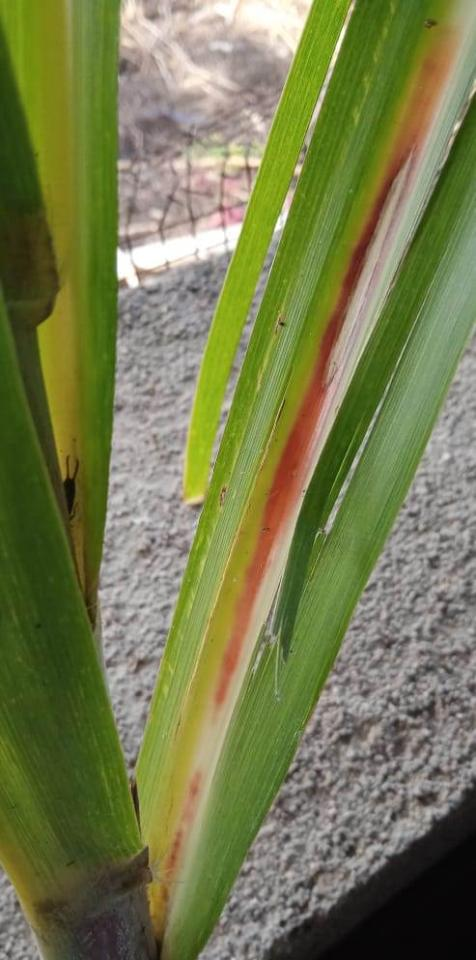RedRot: (209, 26, 466, 728), (159, 768, 204, 904)
